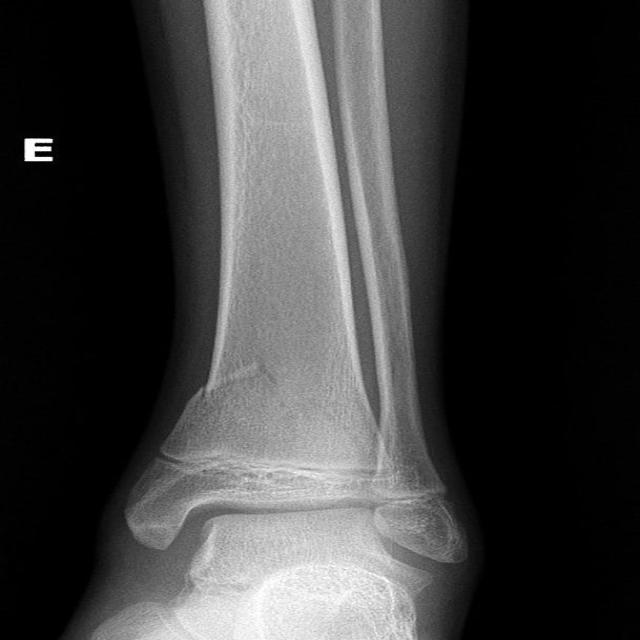fracture: (190, 359, 282, 400), (312, 407, 370, 462)
